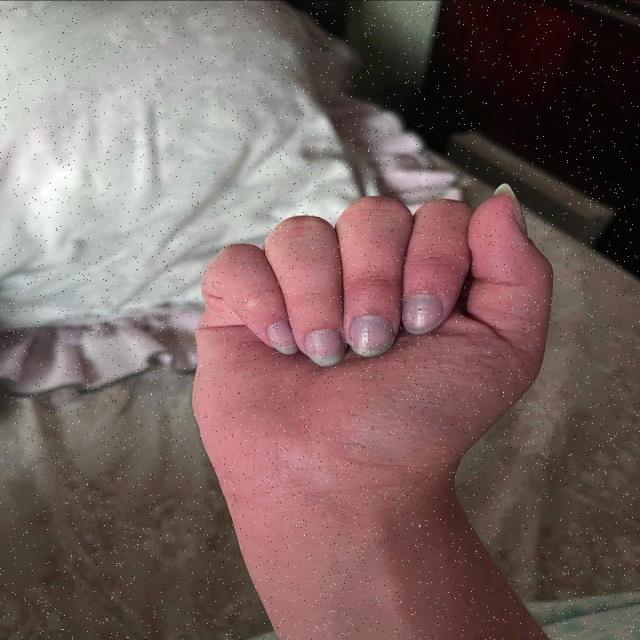A: (190, 178, 555, 501)
